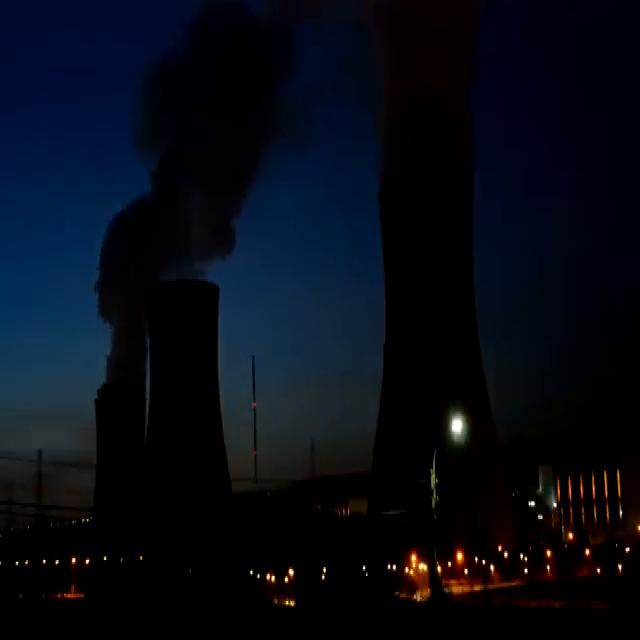smoke: (94, 0, 297, 405), (366, 0, 480, 169)
